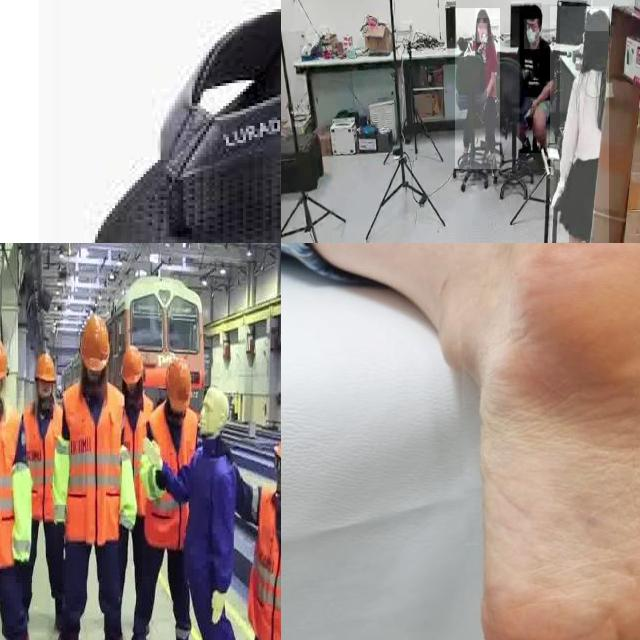Barefoots: (435, 243, 640, 640)
Sandals: (57, 0, 281, 243)
face_mask: (524, 19, 540, 49)
face_nomask: (477, 23, 488, 44)
glasses: (272, 451, 281, 476)
hand_glove: (12, 558, 29, 580), (53, 518, 65, 546)
hand_noglove: (526, 97, 538, 118), (476, 41, 486, 55)
head_helmet: (80, 317, 110, 373), (166, 358, 192, 416), (120, 346, 144, 386), (34, 353, 56, 386), (0, 336, 8, 382), (272, 431, 281, 471)
head_nohelmet: (585, 9, 609, 32), (524, 3, 542, 18), (475, 8, 489, 19)
person: (60, 308, 133, 640), (550, 6, 609, 243), (0, 335, 34, 640), (238, 422, 281, 640), (455, 8, 501, 170), (520, 4, 560, 154)
vest: (63, 382, 123, 544), (147, 401, 199, 551), (248, 486, 281, 640), (24, 396, 64, 518), (121, 394, 152, 514), (0, 404, 22, 573)
